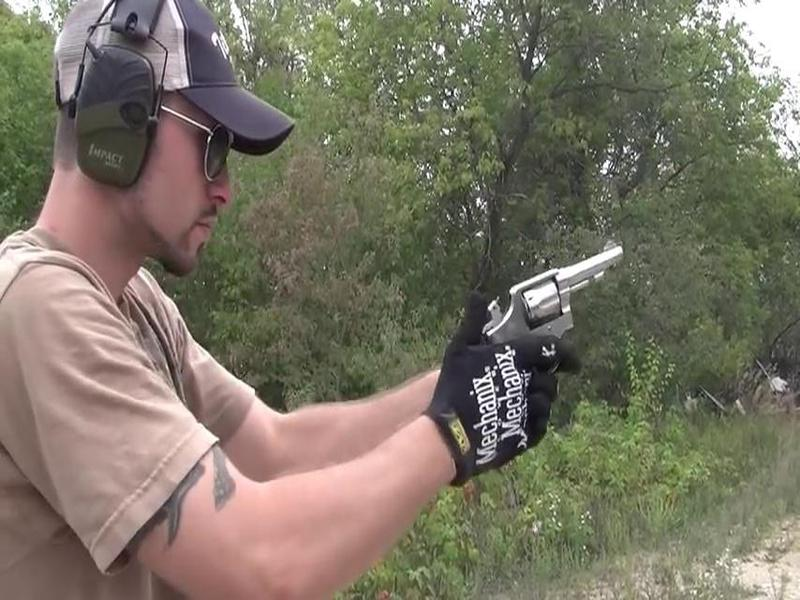Revolver: (473, 240, 632, 371)
